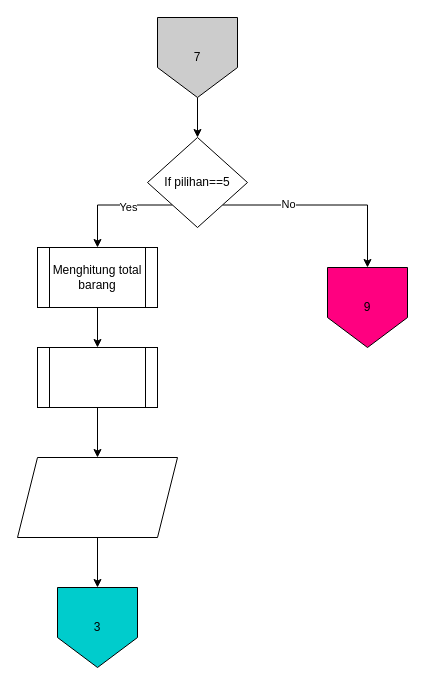
Image size: 425x685. Some labels were removed from this diagram. Each missing label, with the centre of its shape:
Menghitung total barang sesuai jenis: [97,377]
output: total semua barang= total device= total liquid=: [97,497]
